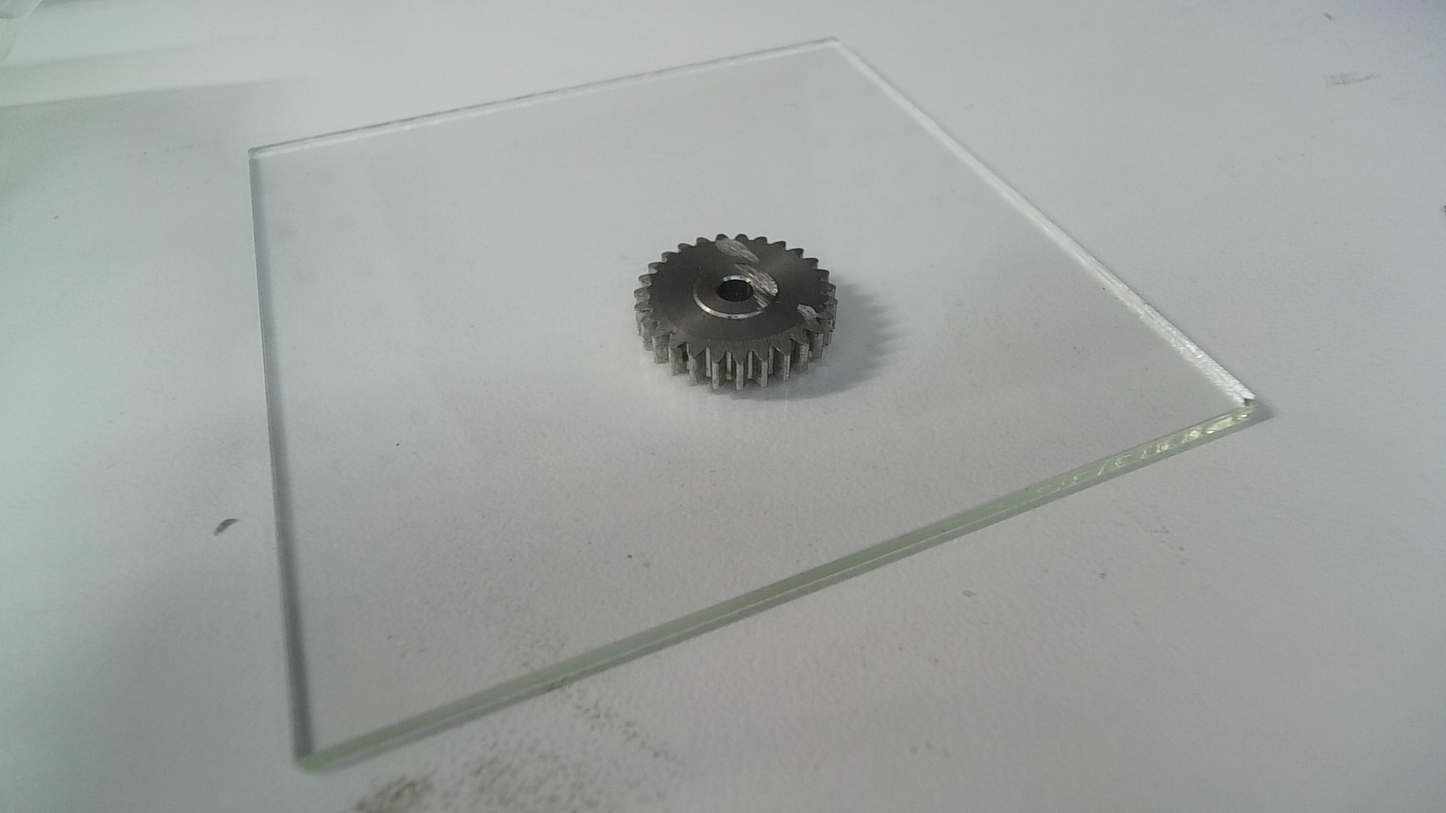gear: (629, 228, 843, 395)
